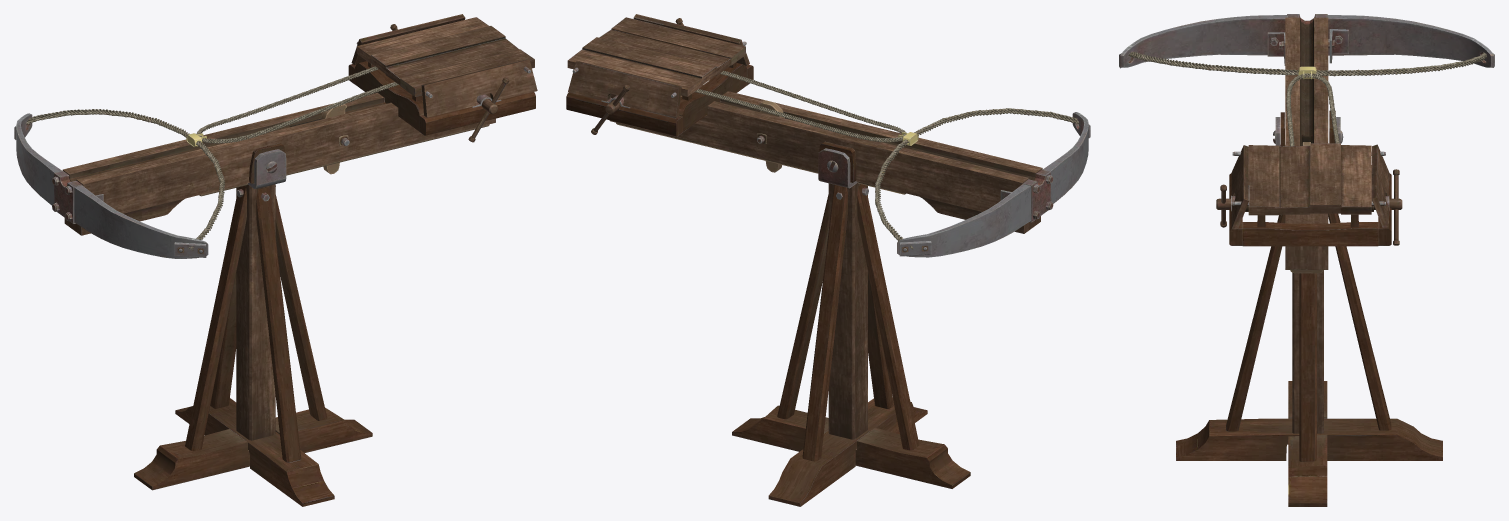
The model's file is ballesta grande glb.draco.glb.
3 views of the same model, side by side, from view 1: azimuth 30°, elevation 25°; view 2: azimuth 150°, elevation 25°; view 3: azimuth 270°, elevation 25° (orthographic). The views are drawn at different scales.
Parts seen in each view (by area): view 1: Cube004_low, Cube016_low, Cube002_low, Cube023_low, Cube_low, Cube009_low, Cube001_low, Cube022_low, Cube006_low, Circle002_low, Cube005_low, Circle004_low (+3 smaller); view 2: Cube004_low, Cube016_low, Cube023_low, Cube002_low, Cube_low, Cube009_low, Cube001_low, Cube025_low, Cube006_low, Circle002_low, Cube005_low, Circle004_low (+3 smaller); view 3: Cube009_low, Cube023_low, Cube001_low, Cube016_low, Cube004_low, Cube007_low, Cube_low, Cube002_low, Circle004_low, Cube022_low, Cube025_low, Circle002_low (+2 smaller).
Part boxes in pixels (bbox=[...]): Cube004_low: bbox=[62, 92, 495, 235]; Cube016_low: bbox=[185, 186, 327, 462]; Cube002_low: bbox=[236, 184, 275, 440]; Cube023_low: bbox=[356, 17, 534, 96]; Cube_low: bbox=[134, 407, 372, 490]; Cube009_low: bbox=[16, 113, 208, 258]; Cube001_low: bbox=[175, 398, 334, 506]; Cube022_low: bbox=[421, 59, 537, 117]; Cube006_low: bbox=[348, 64, 535, 135]; Circle002_low: bbox=[196, 66, 398, 143]; Cube005_low: bbox=[355, 61, 423, 131]; Circle004_low: bbox=[26, 109, 225, 250]; Cube004_low: bbox=[609, 85, 1042, 233]; Cube016_low: bbox=[777, 184, 919, 461]; Cube023_low: bbox=[567, 17, 745, 96]; Cube002_low: bbox=[828, 183, 867, 439]; Cube_low: bbox=[732, 405, 970, 488]; Cube009_low: bbox=[897, 112, 1088, 257]; Cube001_low: bbox=[768, 398, 927, 506]; Cube025_low: bbox=[568, 61, 681, 118]; Cube006_low: bbox=[566, 65, 753, 136]; Circle002_low: bbox=[694, 71, 906, 142]; Cube005_low: bbox=[679, 63, 747, 132]; Circle004_low: bbox=[875, 108, 1078, 249]; Cube009_low: bbox=[1120, 15, 1494, 67]; Cube023_low: bbox=[1248, 143, 1371, 215]; Cube001_low: bbox=[1176, 418, 1442, 460]; Cube016_low: bbox=[1226, 213, 1391, 461]; Cube004_low: bbox=[1285, 17, 1328, 273]; Cube007_low: bbox=[1242, 222, 1378, 246]; Cube_low: bbox=[1288, 381, 1327, 506]; Cube002_low: bbox=[1292, 270, 1323, 433]; Circle004_low: bbox=[1128, 51, 1486, 76]; Cube022_low: bbox=[1231, 145, 1249, 229]; Cube025_low: bbox=[1371, 144, 1389, 227]; Circle002_low: bbox=[1280, 73, 1339, 215].
Bounding box in the file's own units: 8.18 × 6.3 × 5.67.
Materials: 1 (1 with a texture image).
